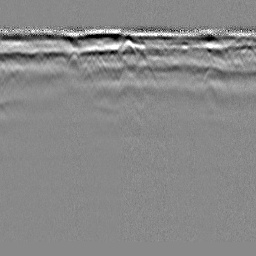cavity: (120, 38, 136, 57)
